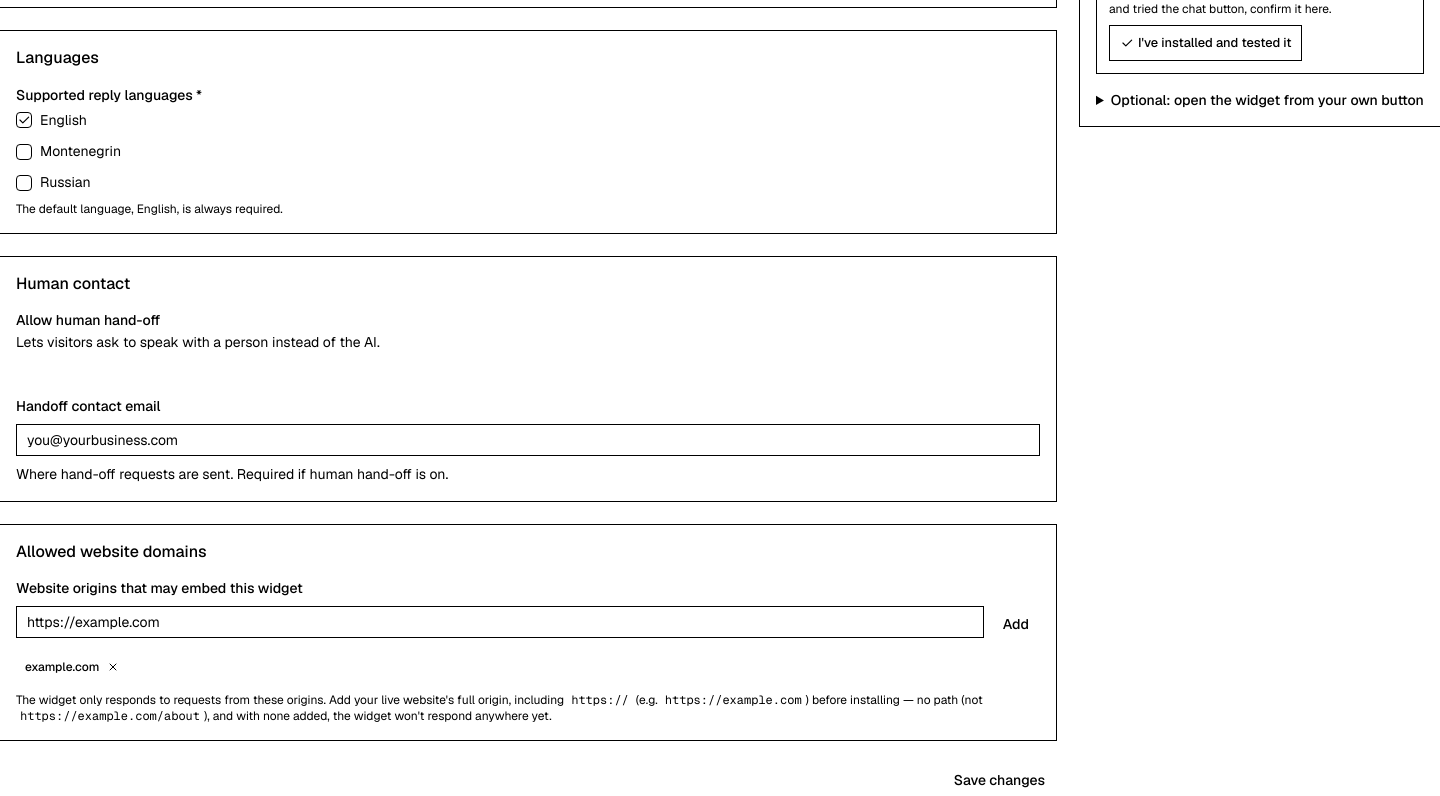
WidgetSettingsForm — allowed website origins › accepts a valid bare domain immediately, adding it as a badge exactly as typed
(page scrolled)
Type "new-site.com" into the field named "Add a website origins that may embed this widget". click: (500, 622)
box: top-left (16, 606), bottom-right (984, 638)
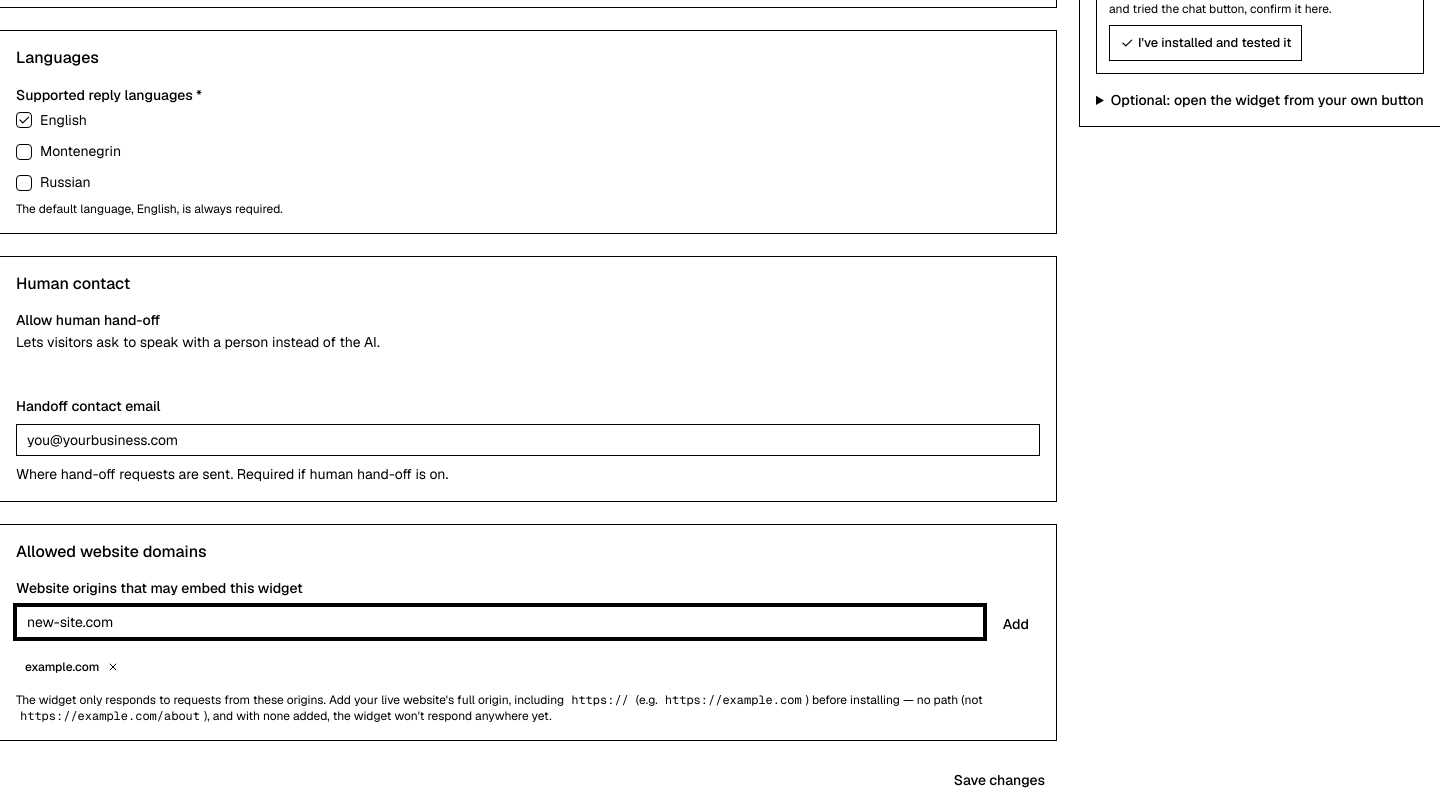
Click the button "Add". click: (1016, 624)
box: top-left (992, 606), bottom-right (1040, 642)
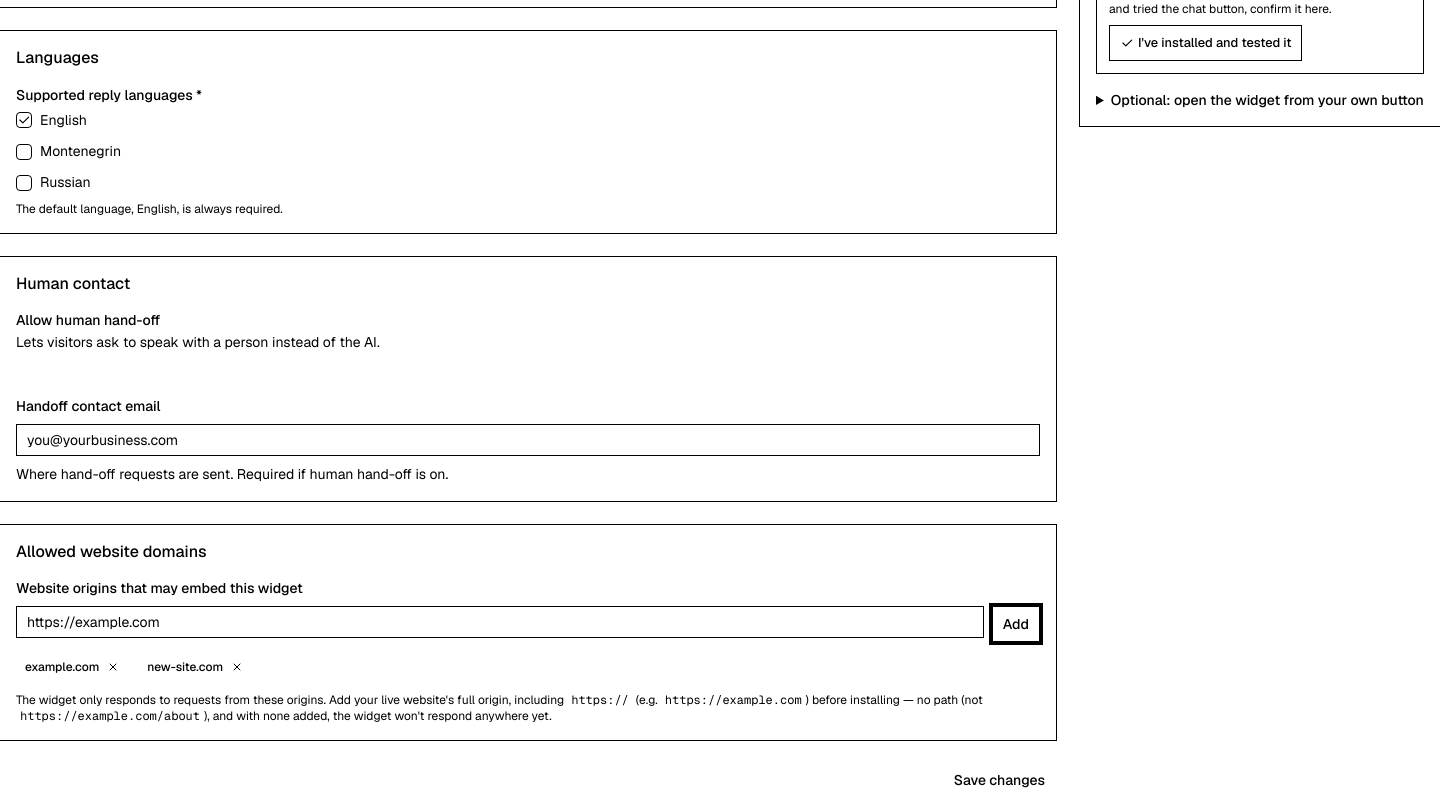
Now the button named "Remove new-site.com" is shown, box top-left (221, 651), bottom-right (253, 683)
